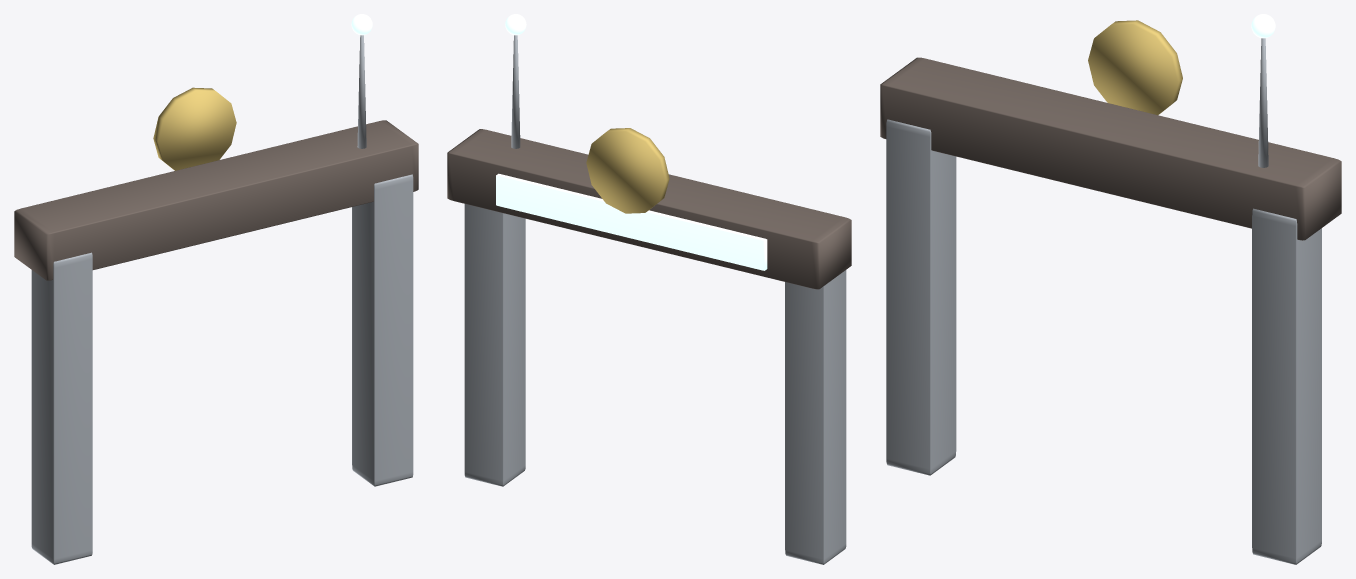
The model's file is SM_TobyWorkshopFacade.fbx.
3 views of the same model, side by side, from view 1: azimuth 30°, elevation 25°; view 2: azimuth 150°, elevation 25°; view 3: azimuth 330°, elevation 25° (orthographic). The views are drawn at different scales.
Parts seen in each view (by area): view 1: SM_TobyWorkshopFacade; view 2: SM_TobyWorkshopFacade; view 3: SM_TobyWorkshopFacade.
Boxes of the visible parts, bbox=[...] form: SM_TobyWorkshopFacade: bbox=[14, 14, 418, 564]; SM_TobyWorkshopFacade: bbox=[447, 14, 851, 564]; SM_TobyWorkshopFacade: bbox=[880, 14, 1341, 564].
Size of the model in its own units: 3.6 by 4.29 by 0.69.
